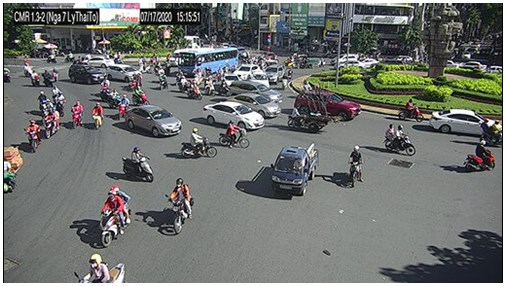xe_buyt: (172, 48, 238, 75)
xe_dap: (219, 120, 250, 150)
xe_hoi: (430, 109, 504, 137), (125, 105, 182, 139), (203, 102, 265, 132), (229, 80, 284, 104), (229, 93, 281, 118), (69, 65, 105, 84), (106, 65, 142, 82), (231, 64, 261, 79), (263, 63, 285, 83), (458, 60, 488, 73), (82, 57, 114, 68), (331, 54, 359, 64), (335, 60, 361, 70), (389, 55, 413, 64), (360, 58, 378, 66)
xe_may: (97, 184, 134, 247), (165, 178, 194, 234), (121, 148, 154, 183), (383, 123, 416, 157), (181, 127, 216, 158), (463, 140, 495, 172), (480, 117, 503, 147), (348, 144, 363, 189), (23, 120, 40, 154), (43, 107, 60, 140), (398, 100, 423, 122), (131, 85, 150, 107), (91, 101, 104, 132), (70, 100, 83, 129), (186, 80, 203, 100), (117, 94, 130, 119), (36, 90, 48, 116), (54, 90, 65, 117), (136, 58, 152, 75), (110, 88, 123, 108), (42, 69, 55, 88), (217, 77, 230, 96), (175, 72, 187, 91), (203, 77, 215, 96), (158, 71, 169, 91), (101, 80, 111, 101), (30, 69, 41, 88), (64, 51, 76, 63), (46, 51, 57, 64), (22, 63, 31, 77), (193, 69, 201, 83), (218, 66, 226, 79), (288, 66, 294, 82)
